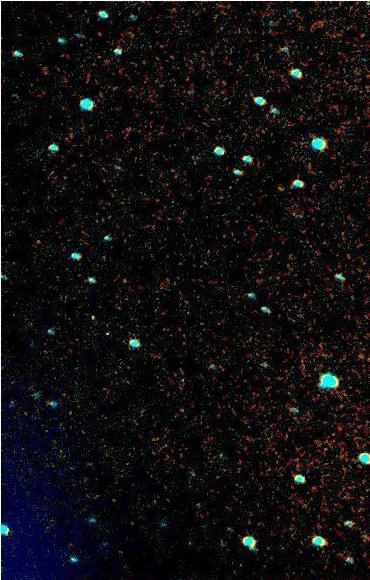star: (79, 302, 109, 332)
